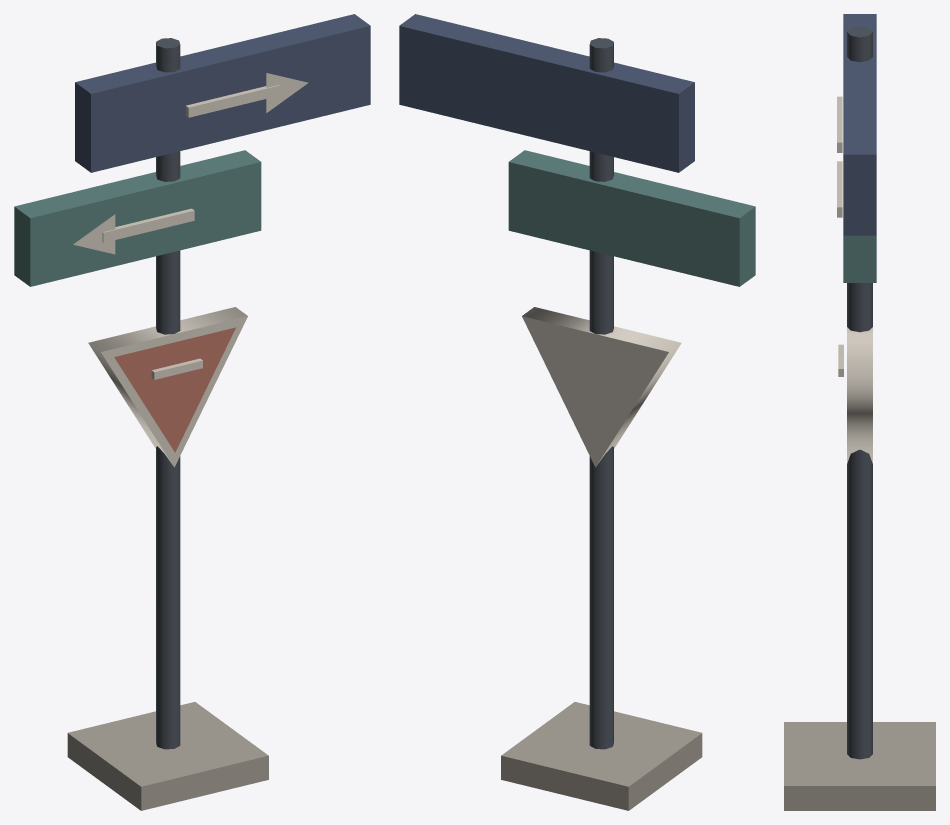
File: komachi-street-signs.glb
3 renders of one model, left to right at view 1: azimuth 30°, elevation 25°; view 2: azimuth 150°, elevation 25°; view 3: azimuth 270°, elevation 25°, orthographic. The views are drawn at different scales.
Parts seen in each view (by area): view 1: Street_Signs; view 2: Street_Signs; view 3: Street_Signs.
Boxes of the visible parts, x1,y1,x2,y2 form: Street_Signs: [14, 14, 370, 810]; Street_Signs: [399, 14, 755, 810]; Street_Signs: [784, 14, 935, 810].
Bounding box in the file's own units: 0.28 × 0.57 × 0.105.
